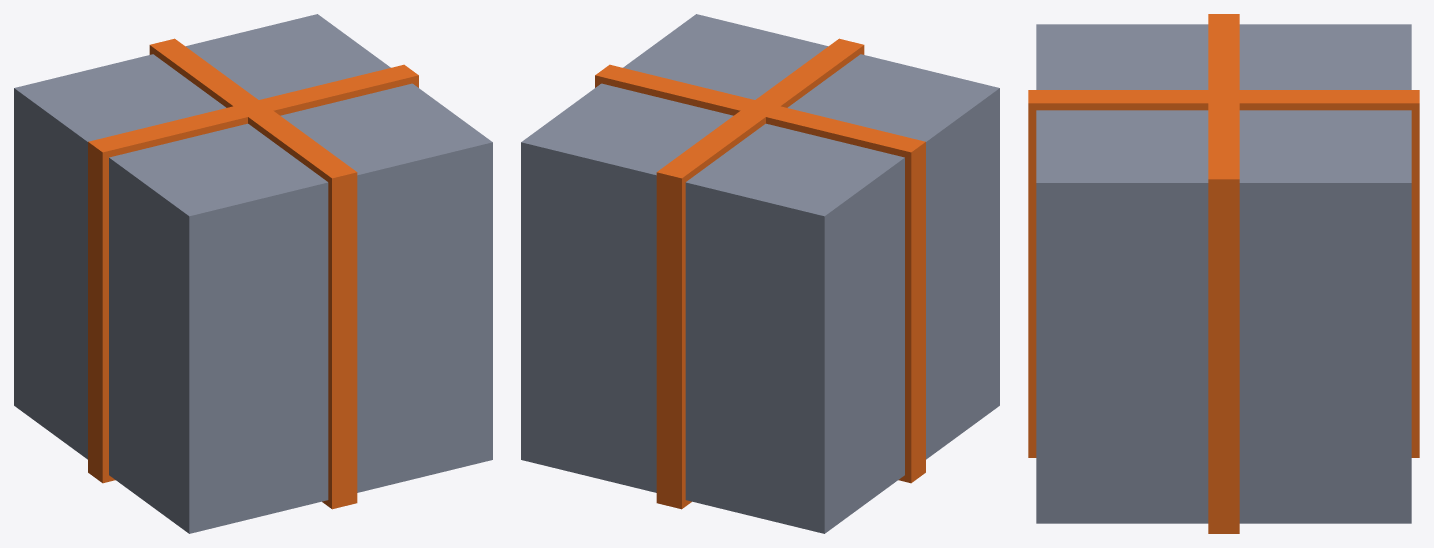
File: colony-cargo-crate.glb
3 renders of one model, left to right at view 1: azimuth 30°, elevation 25°; view 2: azimuth 150°, elevation 25°; view 3: azimuth 270°, elevation 25°, orthographic. The views are drawn at different scales.
Visible parts, largest first — view 1: cargo_crate; view 2: cargo_crate; view 3: cargo_crate.
Part boxes in pixels (box(x1,y1,x2,y2)): cargo_crate: box(14, 14, 492, 533); cargo_crate: box(521, 14, 999, 533); cargo_crate: box(1028, 14, 1419, 533).
Bounding box in the file's own units: 1.25 × 1.25 × 1.25.
